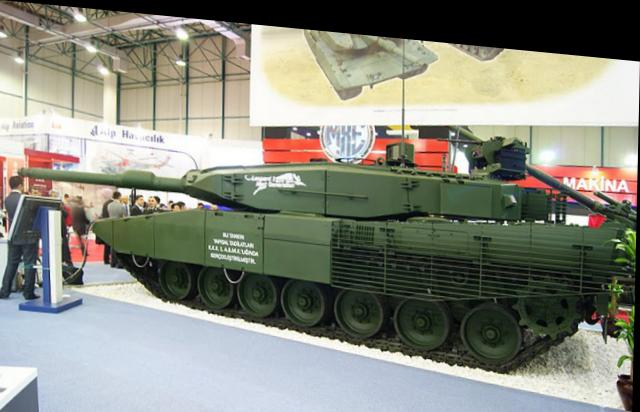tank: (85, 98, 637, 383)
